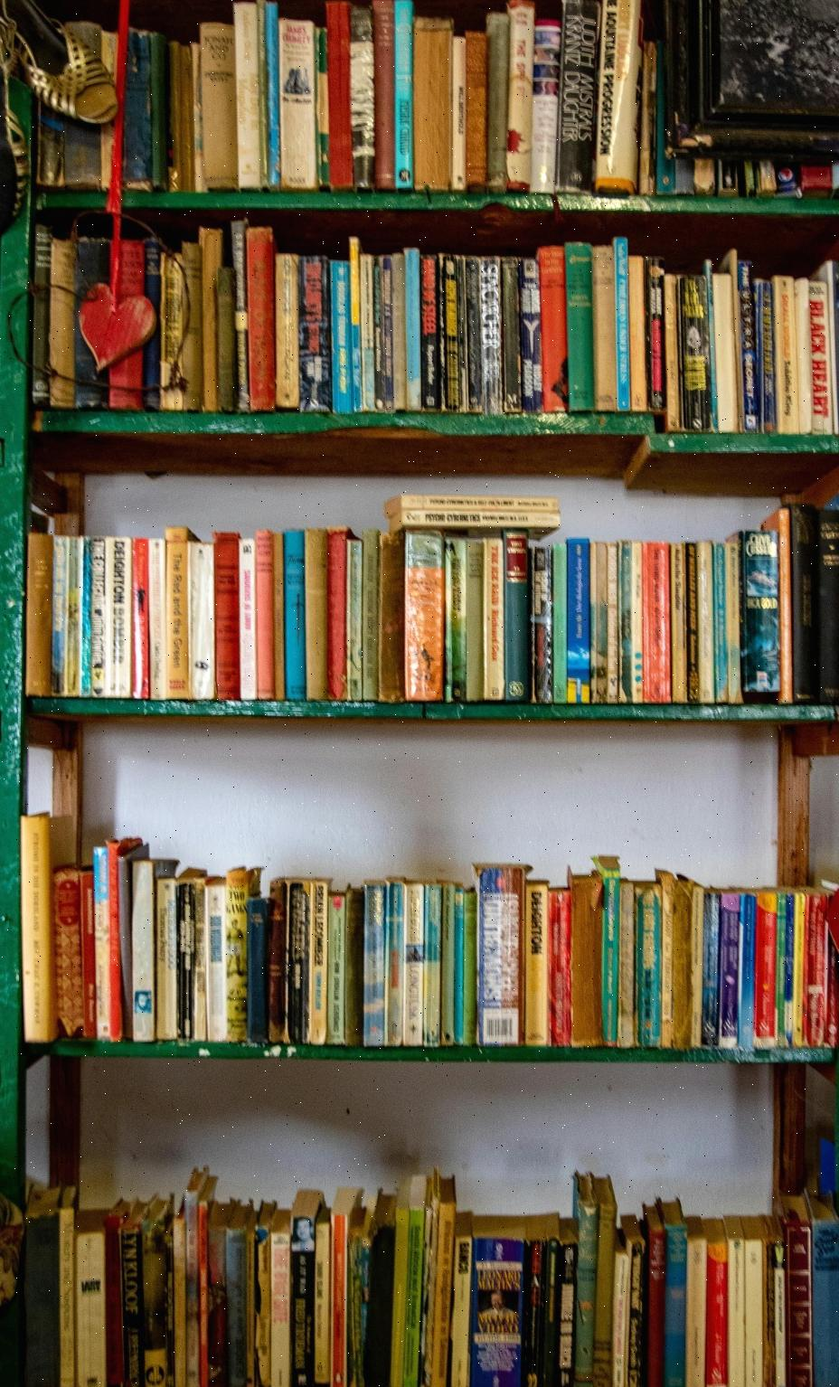book: (469, 1232, 524, 1387), (557, 0, 599, 194), (20, 818, 55, 1038), (784, 505, 821, 700), (739, 529, 780, 701), (404, 529, 444, 704), (391, 1176, 424, 1387), (412, 19, 452, 193), (329, 1186, 363, 1387), (278, 16, 316, 191), (138, 1193, 172, 1387), (568, 870, 605, 1048), (73, 236, 111, 405), (807, 1188, 839, 1387), (198, 22, 235, 189), (589, 1175, 618, 1387), (364, 1201, 397, 1387), (571, 1169, 599, 1387), (73, 1208, 107, 1387), (590, 857, 621, 1049), (430, 1175, 458, 1387), (504, 2, 535, 191), (112, 237, 146, 408), (656, 1200, 687, 1387), (246, 227, 277, 412), (782, 1204, 813, 1387), (117, 1200, 147, 1387), (234, 3, 264, 188), (530, 15, 561, 192), (128, 857, 157, 1045), (124, 27, 157, 189), (175, 871, 205, 1047), (698, 1217, 729, 1387), (679, 275, 712, 434), (325, 2, 352, 190), (223, 1199, 250, 1387), (813, 511, 839, 706), (48, 232, 77, 405), (537, 245, 567, 412), (564, 243, 594, 409), (589, 245, 619, 410), (483, 9, 510, 192), (371, 1, 397, 191), (349, 3, 375, 189), (419, 1169, 441, 1387), (681, 1218, 709, 1387), (378, 530, 405, 705), (213, 530, 240, 703), (224, 868, 250, 1046), (25, 532, 53, 695), (386, 507, 555, 534), (298, 256, 327, 413), (448, 1219, 475, 1387), (502, 529, 528, 703), (640, 542, 667, 706), (739, 1218, 765, 1387), (564, 539, 590, 708), (92, 842, 114, 1039), (642, 1207, 666, 1387), (802, 887, 829, 1047), (102, 1207, 126, 1387), (523, 882, 549, 1047), (804, 278, 831, 436), (200, 230, 224, 407), (636, 885, 662, 1048), (103, 539, 129, 702), (188, 541, 214, 703), (164, 536, 189, 704), (463, 30, 489, 191), (392, 0, 414, 190), (269, 1206, 292, 1387), (715, 892, 741, 1051), (159, 247, 185, 406), (303, 528, 327, 700), (177, 240, 202, 405), (30, 224, 53, 403), (56, 1200, 78, 1387), (711, 275, 737, 433), (155, 870, 178, 1046), (325, 527, 348, 703), (623, 1216, 646, 1387), (518, 257, 543, 413), (326, 887, 350, 1049), (282, 531, 305, 700), (253, 1202, 274, 1387), (140, 238, 163, 406), (548, 886, 572, 1047), (363, 882, 386, 1049), (608, 1220, 631, 1387), (288, 880, 311, 1047), (734, 259, 756, 433), (313, 1196, 333, 1387), (204, 878, 227, 1044), (394, 493, 560, 516), (478, 255, 502, 414), (778, 1060, 806, 1196), (772, 277, 796, 435), (753, 893, 777, 1050), (555, 1225, 578, 1387), (529, 543, 552, 705), (625, 255, 648, 416), (403, 880, 425, 1048), (538, 1227, 561, 1387), (170, 1194, 189, 1387), (276, 253, 299, 412), (463, 535, 485, 701), (254, 529, 275, 702), (445, 538, 467, 703), (439, 883, 461, 1048), (230, 219, 249, 410), (360, 531, 381, 702), (499, 257, 522, 413), (644, 258, 666, 420), (262, 3, 281, 189), (482, 534, 503, 702), (308, 879, 329, 1046), (327, 262, 350, 414), (246, 892, 268, 1048), (700, 889, 721, 1050), (652, 45, 675, 192), (237, 536, 257, 702), (385, 880, 405, 1046), (791, 280, 812, 437), (130, 536, 150, 700), (423, 884, 443, 1048), (589, 543, 609, 703), (343, 888, 363, 1047), (461, 257, 481, 415), (736, 895, 756, 1053), (268, 880, 287, 1046), (88, 535, 107, 701), (196, 1190, 212, 1387), (617, 881, 636, 1045), (419, 254, 439, 409), (768, 1224, 787, 1387), (344, 540, 363, 702), (695, 542, 714, 703), (402, 251, 421, 411), (147, 539, 166, 698), (689, 883, 707, 1050), (79, 873, 97, 1039), (662, 276, 681, 433), (441, 255, 460, 412), (752, 280, 771, 434), (215, 270, 236, 409), (50, 534, 68, 696), (551, 544, 569, 705), (66, 537, 84, 698), (638, 41, 657, 193), (99, 35, 118, 187), (625, 542, 643, 702), (778, 891, 796, 1047), (724, 541, 741, 702), (377, 256, 395, 408), (683, 543, 700, 703), (669, 545, 686, 704), (790, 893, 807, 1047), (461, 887, 477, 1049), (604, 541, 620, 700), (271, 532, 286, 701), (37, 99, 65, 187), (189, 45, 203, 193)
